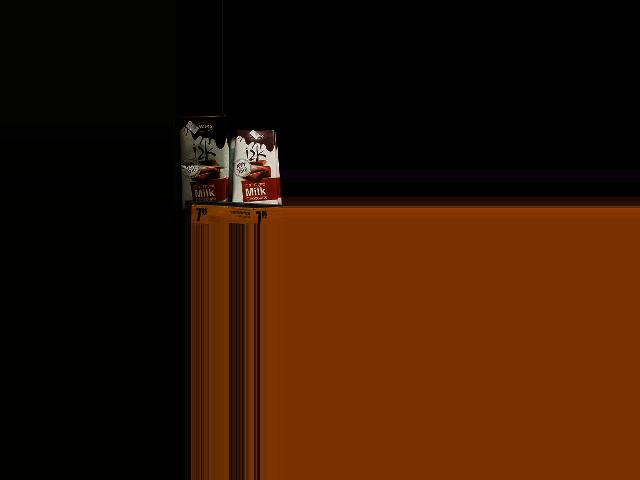chocolate: (232, 127, 285, 214)
